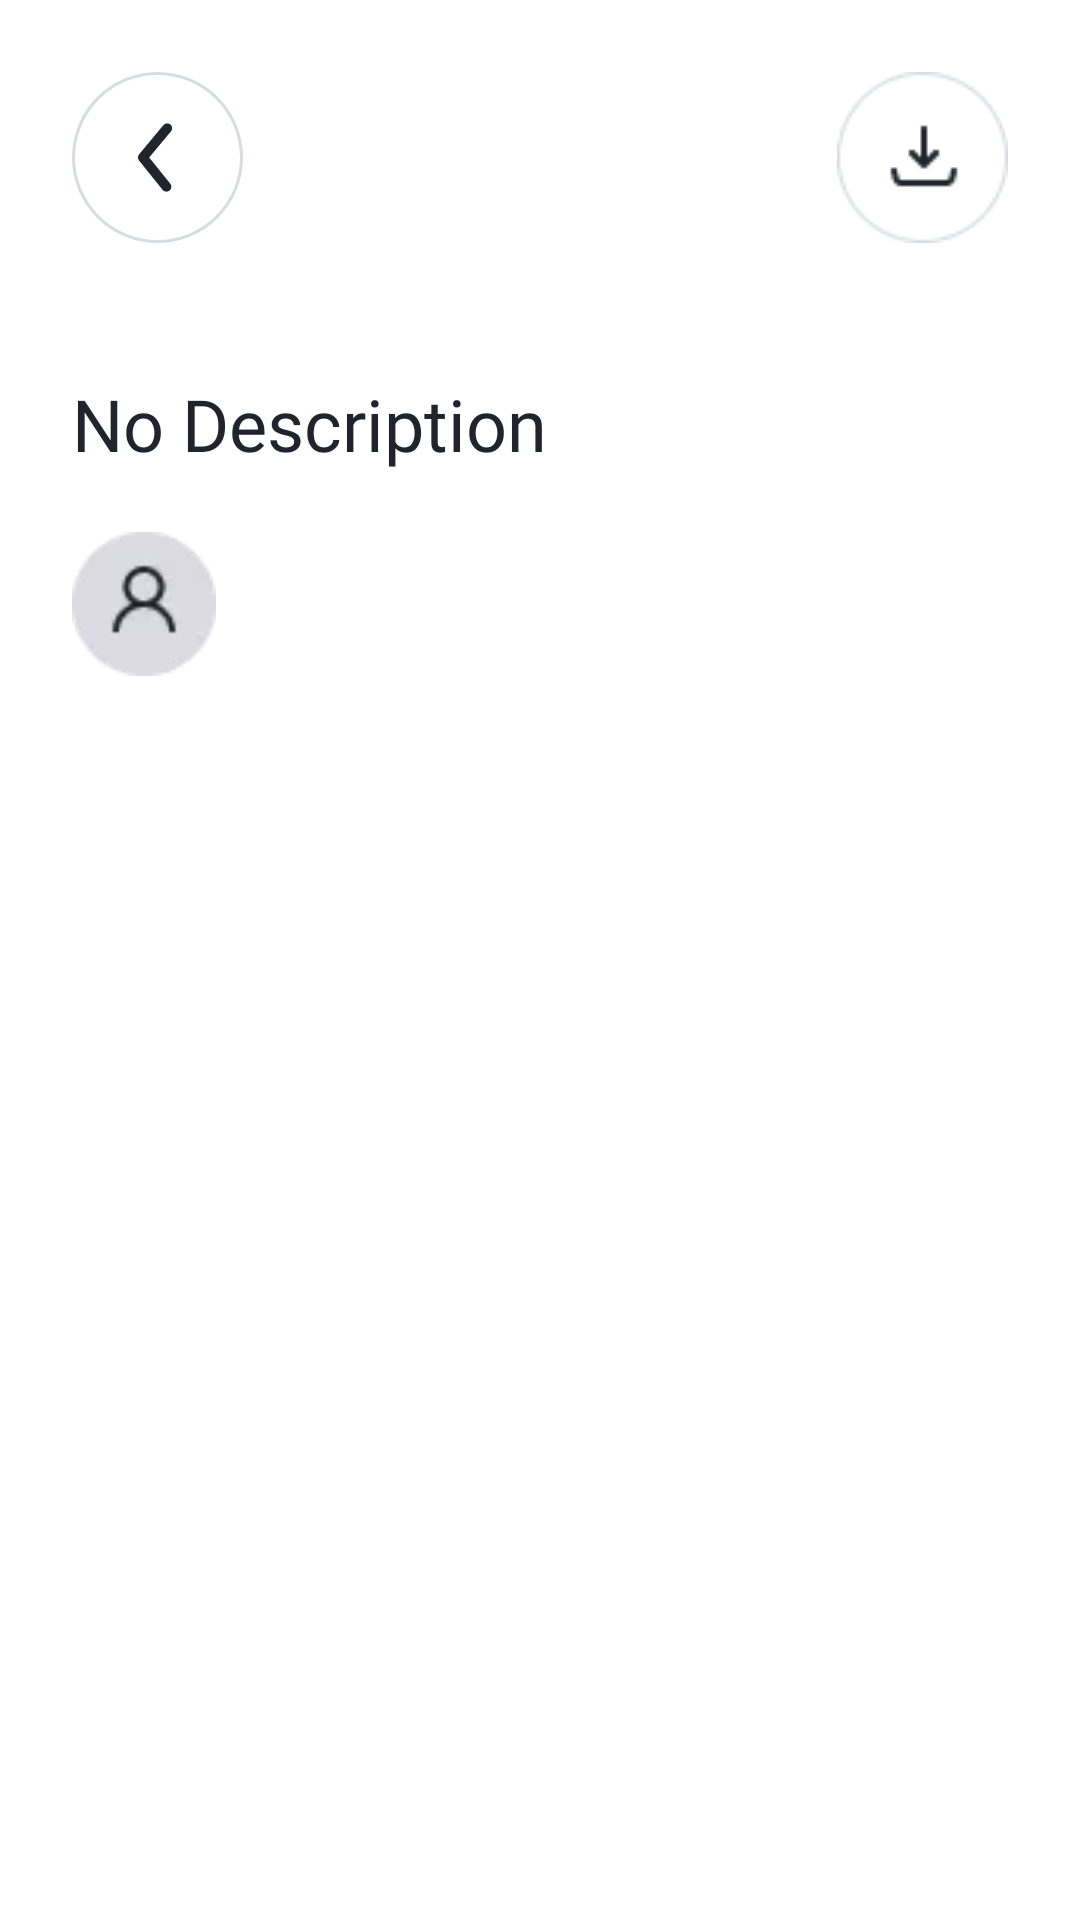

Screen size 1080 x 1920. Icon name, then its box in pixels as (x1, y1, x2, y2):
back button: (72, 72, 243, 243)
download button: (837, 72, 1008, 243)
profile picture: (72, 532, 216, 676)
